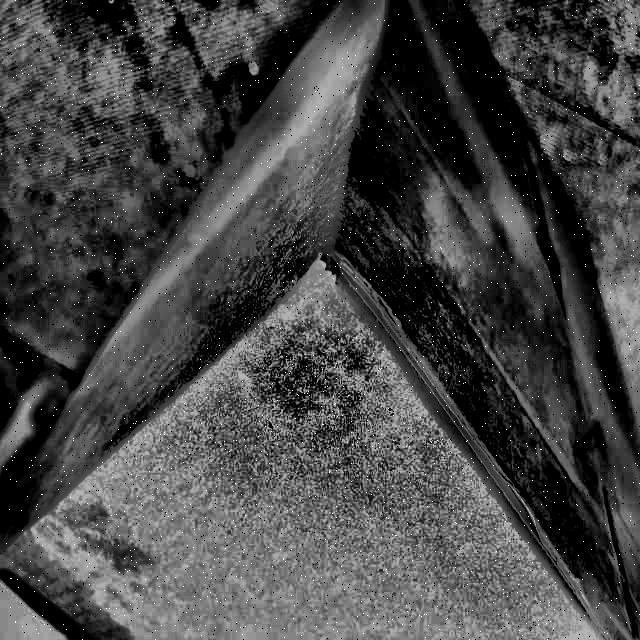box: (0, 0, 640, 640)
wet: (249, 169, 459, 443)
